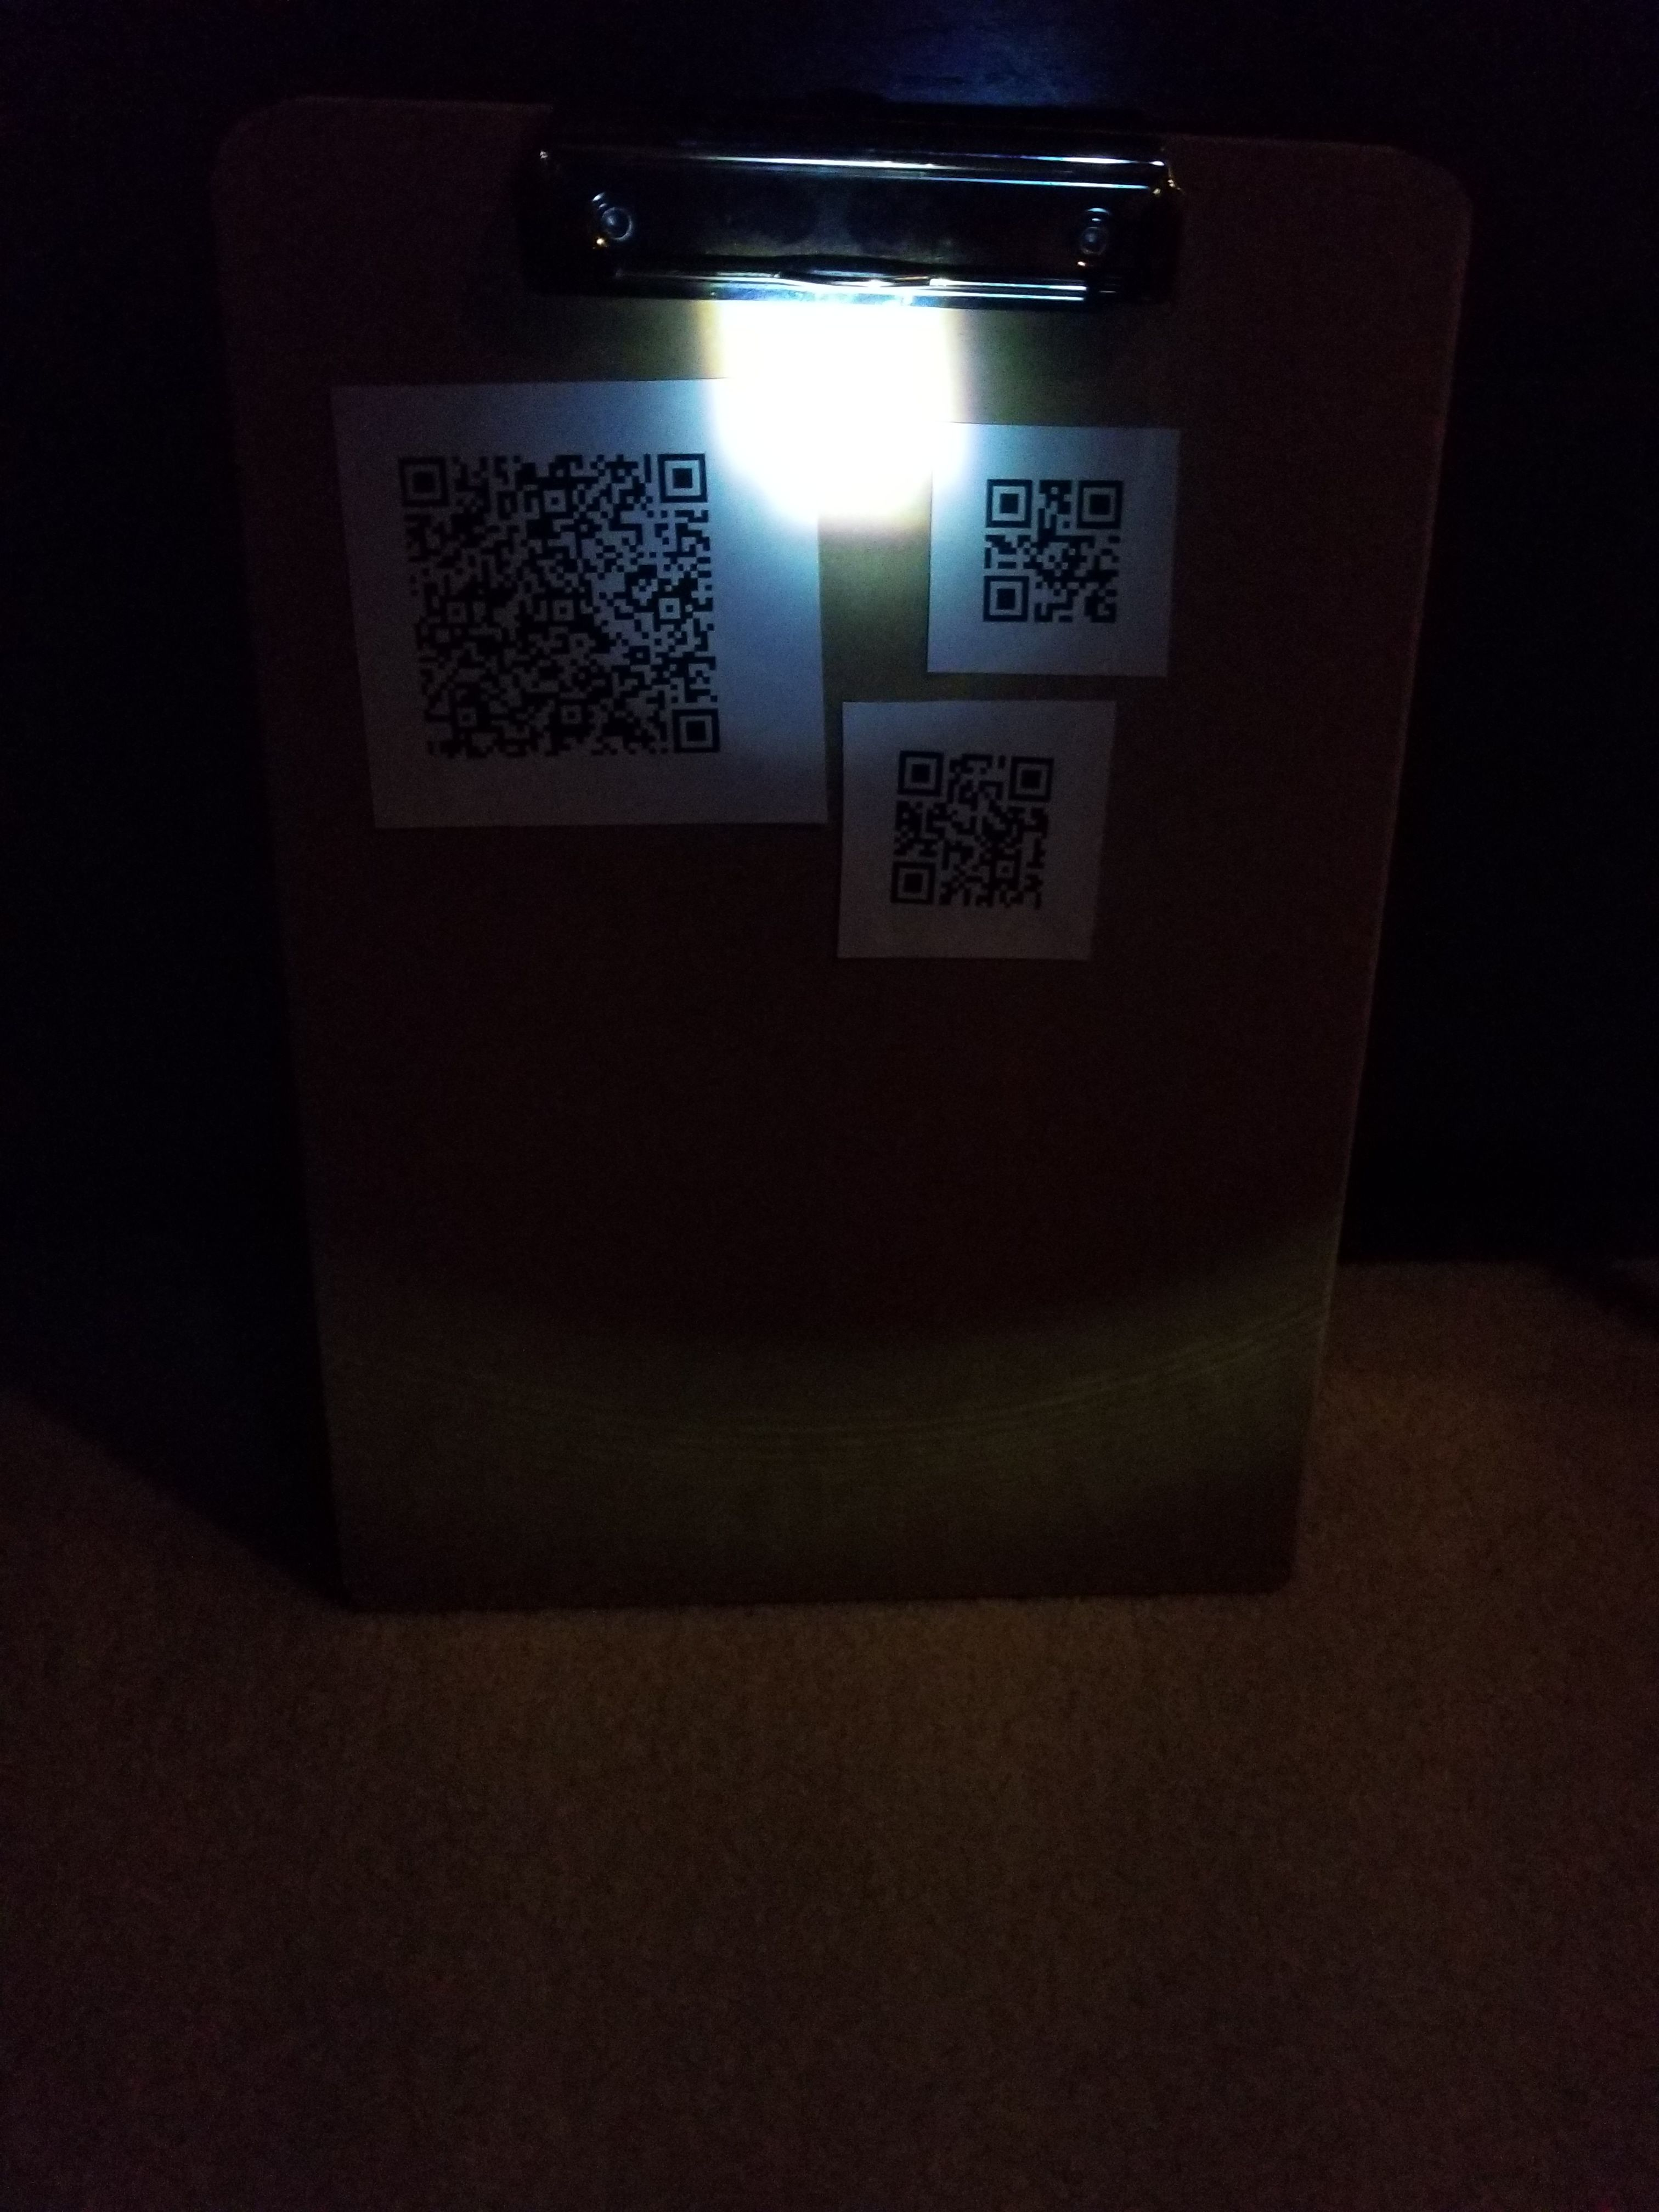QR_CODE: (375, 402, 763, 792), (866, 723, 1096, 942), (972, 439, 1161, 658)
